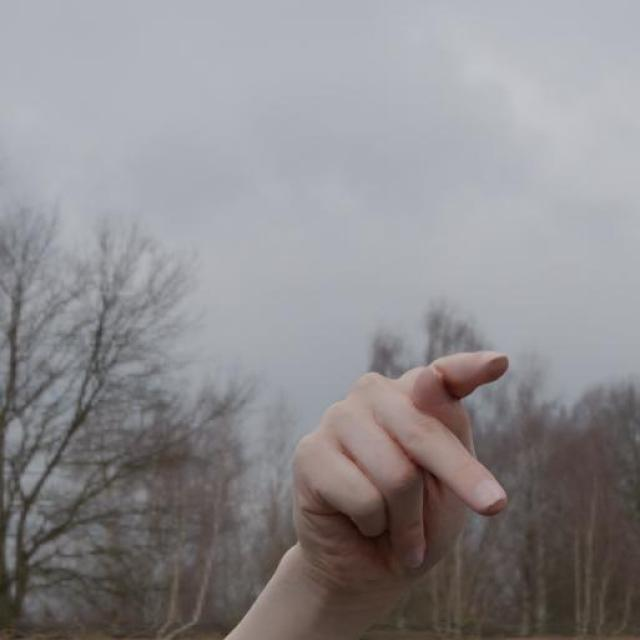P: (258, 340, 543, 639)
